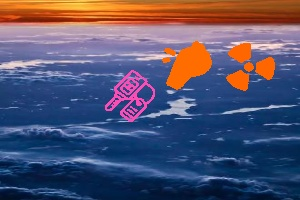人大钥匙: (105, 70, 154, 122)
核辐射: (227, 43, 277, 91)
玩具头: (163, 40, 213, 88)
